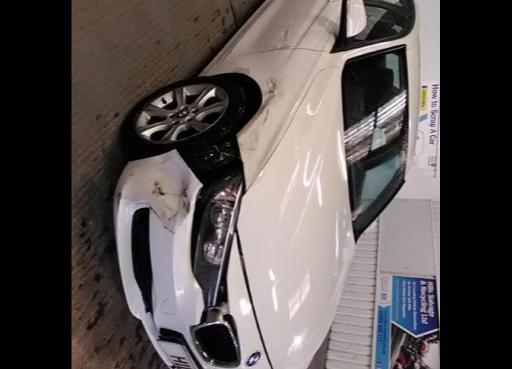Broken part: (112, 132, 246, 369), (234, 224, 275, 369), (216, 226, 242, 350), (190, 306, 240, 369)
Dent: (146, 152, 194, 228), (236, 106, 272, 164), (260, 74, 286, 106), (270, 22, 294, 50), (228, 64, 252, 76)
Paint chip: (150, 178, 168, 196), (128, 168, 148, 176), (182, 188, 188, 198), (186, 200, 190, 214)
Scratch: (168, 194, 186, 222), (258, 94, 276, 116), (150, 204, 164, 222), (178, 212, 188, 226), (234, 66, 250, 74), (282, 30, 288, 46), (266, 80, 274, 92), (164, 226, 176, 234), (118, 192, 122, 212), (264, 107, 268, 126), (270, 78, 276, 90), (276, 46, 292, 50), (162, 210, 168, 218), (182, 176, 184, 190), (162, 214, 166, 220)
